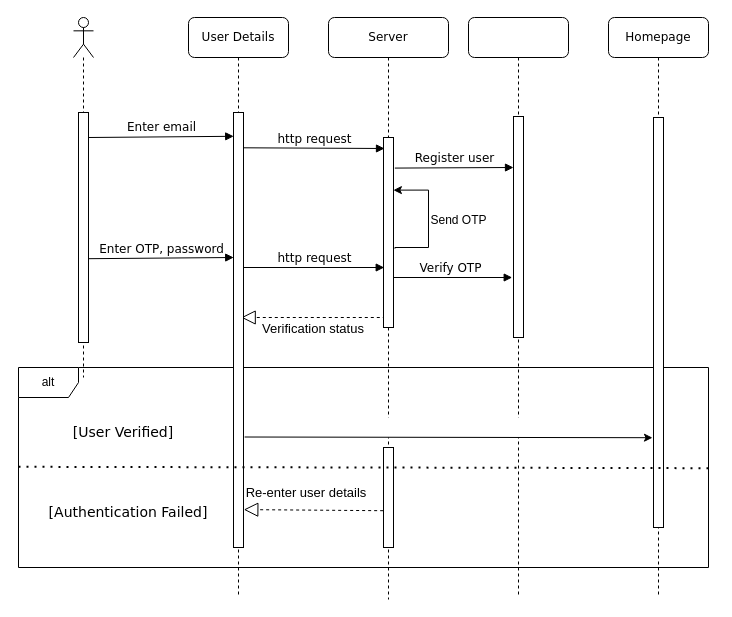
This 732x617 diagram has some shape labels left out. The centre of each missing label's shape, as x and y in pixels:
Database: (518,307)
User registered; redirect to homepage: (443,427)
